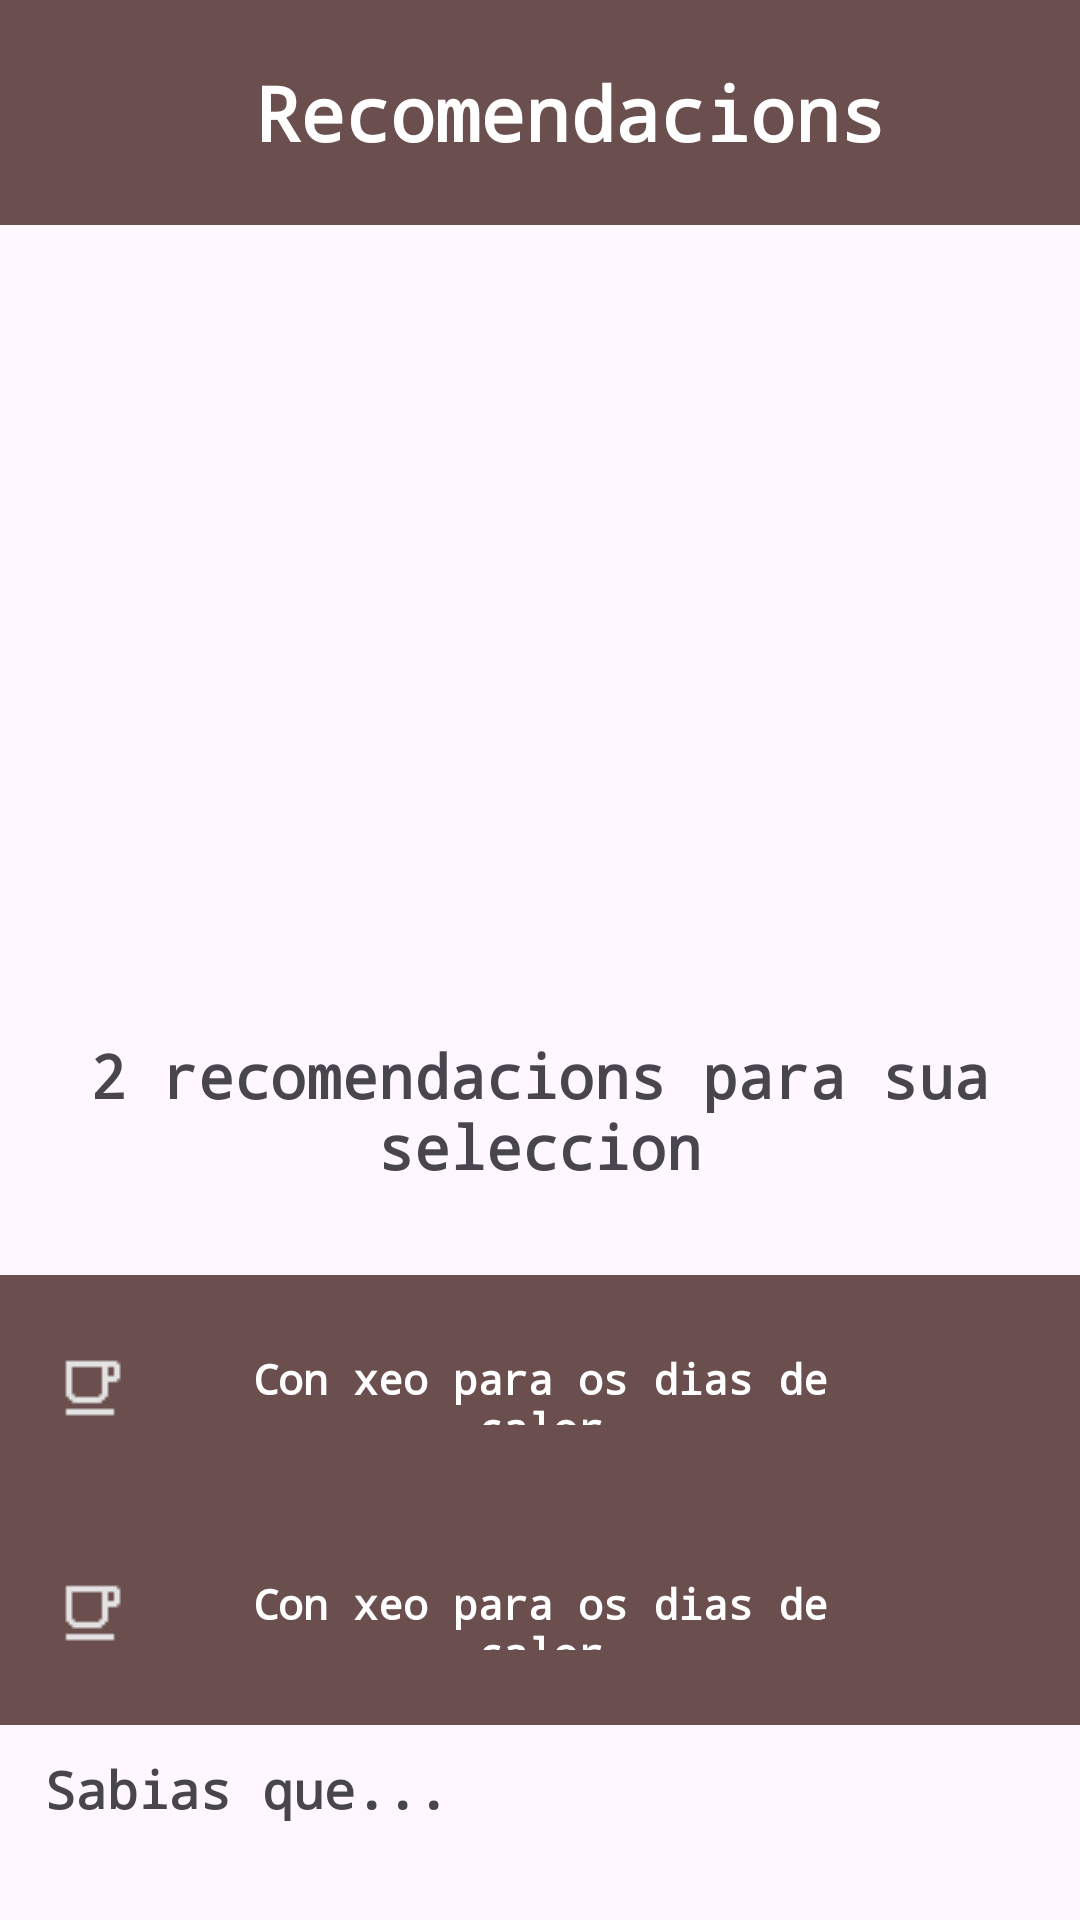

Icon click points for this 1080px x 1920px phone screenshot, format (x=x, y=y):
local cafe: (x=93, y=1388), (x=93, y=1613)
